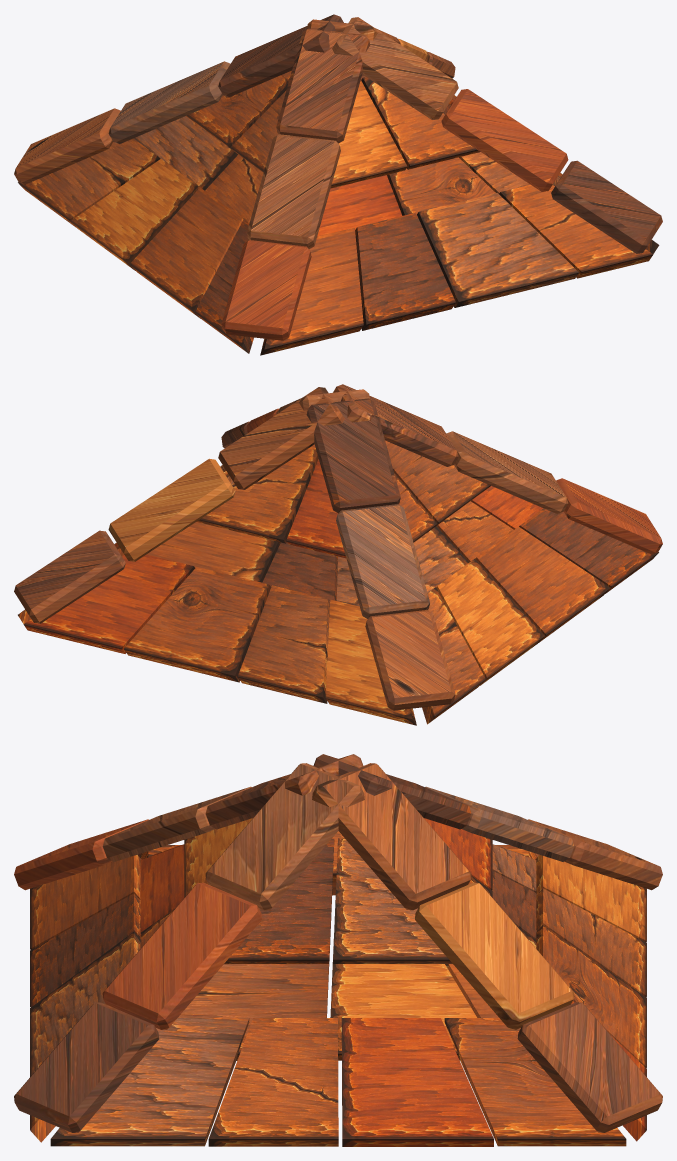
Rendered from roof_cap__plank_root.glb.
3 views of the same model, one above another, from view 1: azimuth 30°, elevation 25°; view 2: azimuth 150°, elevation 25°; view 3: azimuth 270°, elevation 25° (orthographic). The views are drawn at different scales.
Parts seen in each view (by area): view 1: model; view 2: model; view 3: model.
Boxes of the visible parts, box(x1,y1,x2,y2) form: model: box(14, 14, 662, 355); model: box(14, 384, 662, 725); model: box(14, 754, 662, 1146).
Bounding box in the file's own units: 1.03 × 0.4405 × 1.03.
Materials: 16 (16 with a texture image).
